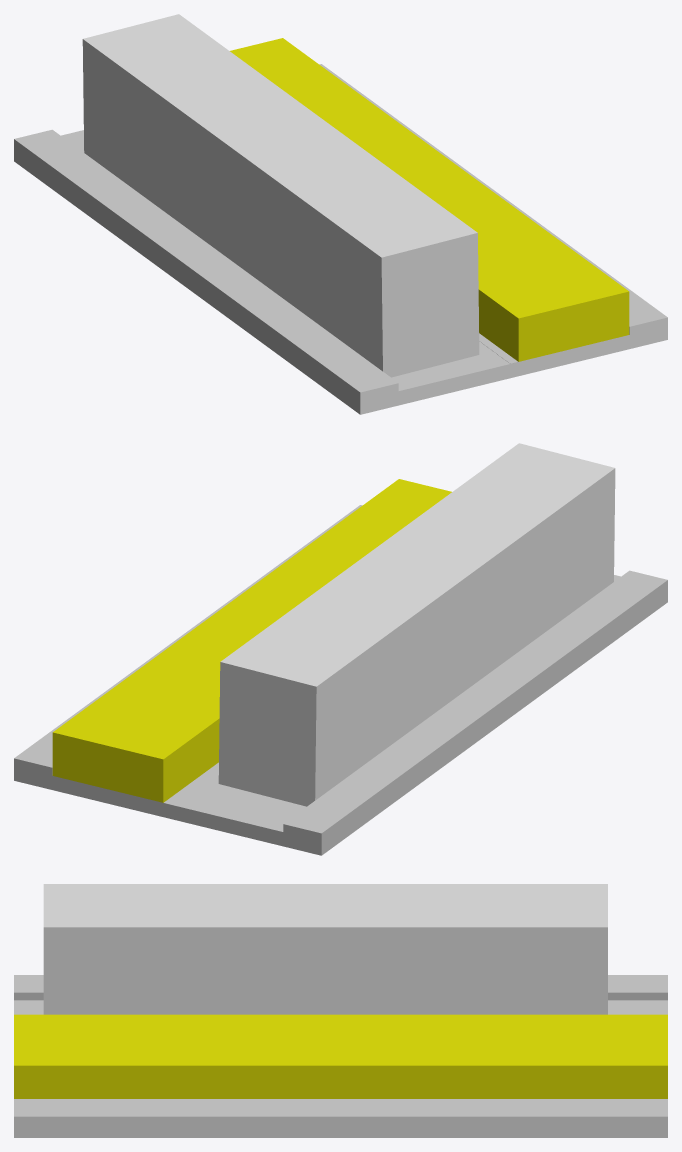
3 views of the same model, one above another, from view 1: azimuth 30°, elevation 25°; view 2: azimuth 150°, elevation 25°; view 3: azimuth 270°, elevation 25° (orthographic). The views are drawn at different scales.
Visible parts, largest first — view 1: Model; view 2: Model; view 3: Model.
Boxes of the visible parts, x1,y1,x2,y2 form: Model: (14,14,667,414); Model: (14,443,667,855); Model: (14,884,667,1137).
Size of the model in its own units: 8 by 15.6 by 3.43.
